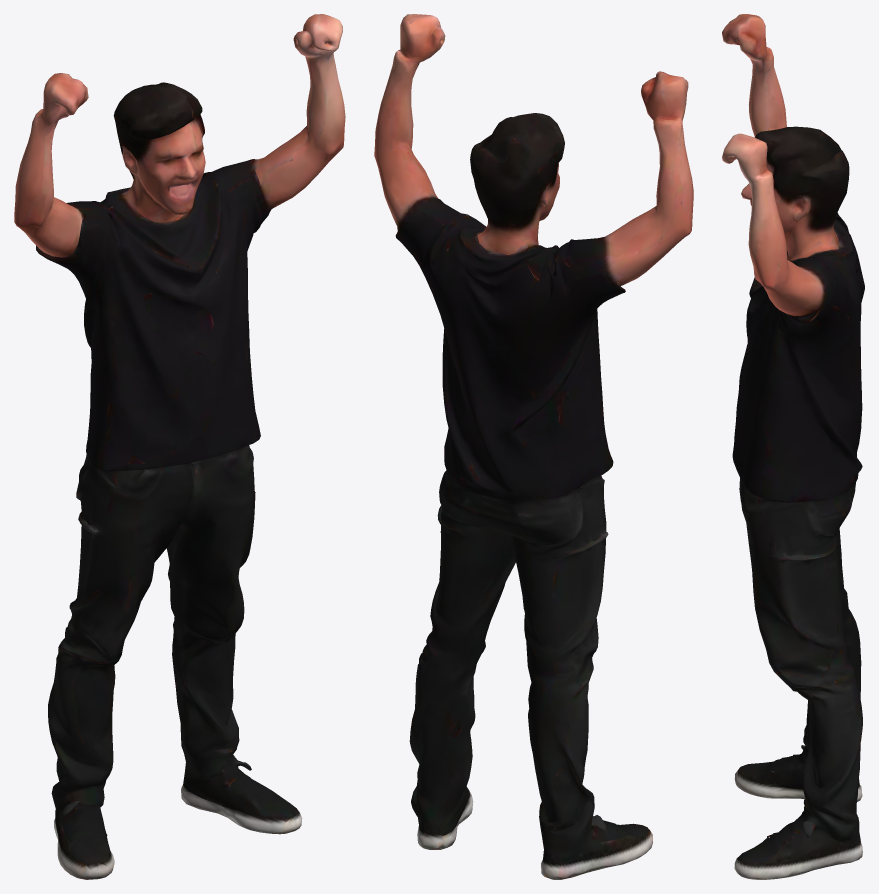
File: fan-m-fists-s1.glb
The picture shows the model from 3 angles, left to right: view 1: azimuth 30°, elevation 25°; view 2: azimuth 150°, elevation 25°; view 3: azimuth 270°, elevation 25°; orthographic projection. The views are drawn at different scales.
Parts seen in each view (by area): view 1: geometry_0; view 2: geometry_0; view 3: geometry_0.
Boxes of the visible parts, x1,y1,x2,y2 form: geometry_0: (14,14,345,879); geometry_0: (374,14,693,879); geometry_0: (722,14,864,879).
Bounding box in the file's own units: 0.4235 × 1 × 0.1714.
1 material, 1 textured.
